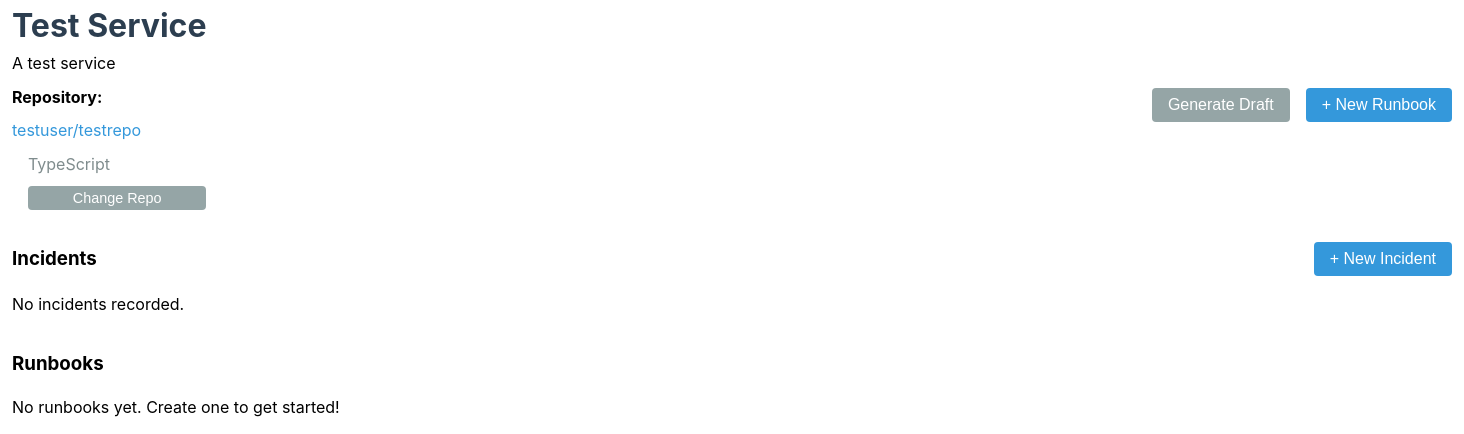
Test: ServiceDetailPage › shows loading state during generation
Click the button "Generate Draft": (1221, 105) [1152,88,1290,122]
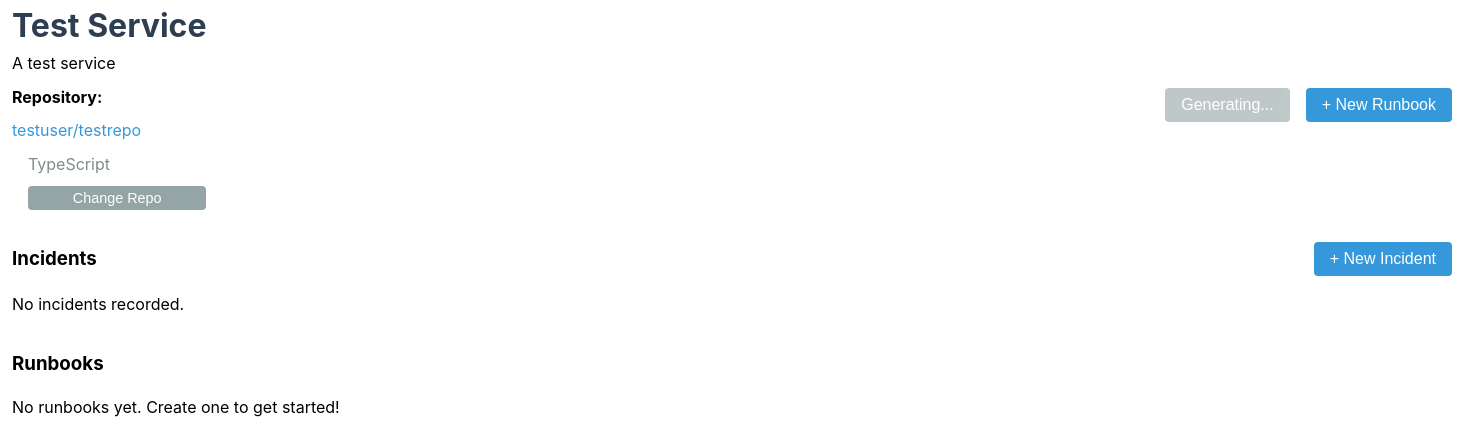
Check: the button "Generating..." is shown, box [1165,88,1290,122]
